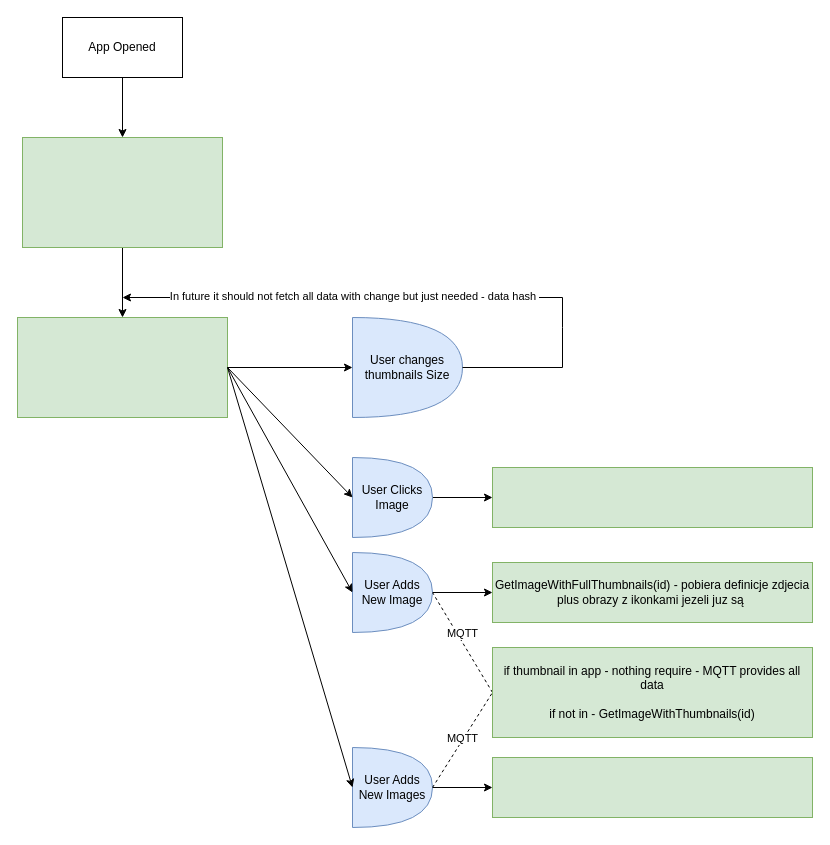
The diagram is 830 pixels wide and 845 high, and some of its shapes have lost their labels. The shapes that lost their labels are listed below. From the top down, each one's box as (x1, y1, x2, y2) in pixels, then its label:
(22, 136, 222, 248): GetImages() - pobiera tylko definicje obrazów
(16, 316, 228, 418): GetThumbnails(size) - pobiera konkretne rozmiary wygenerowanych minaturek
(492, 466, 812, 528): getFullImage(id) - pobiera sam obiekt zdjęcia z danymi
(492, 756, 812, 818): GetImageWithThumbnails(ids)
